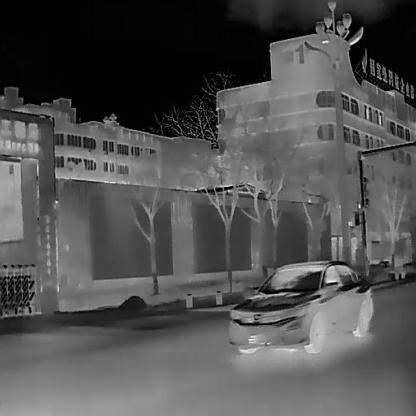car: (228, 258, 374, 352)
